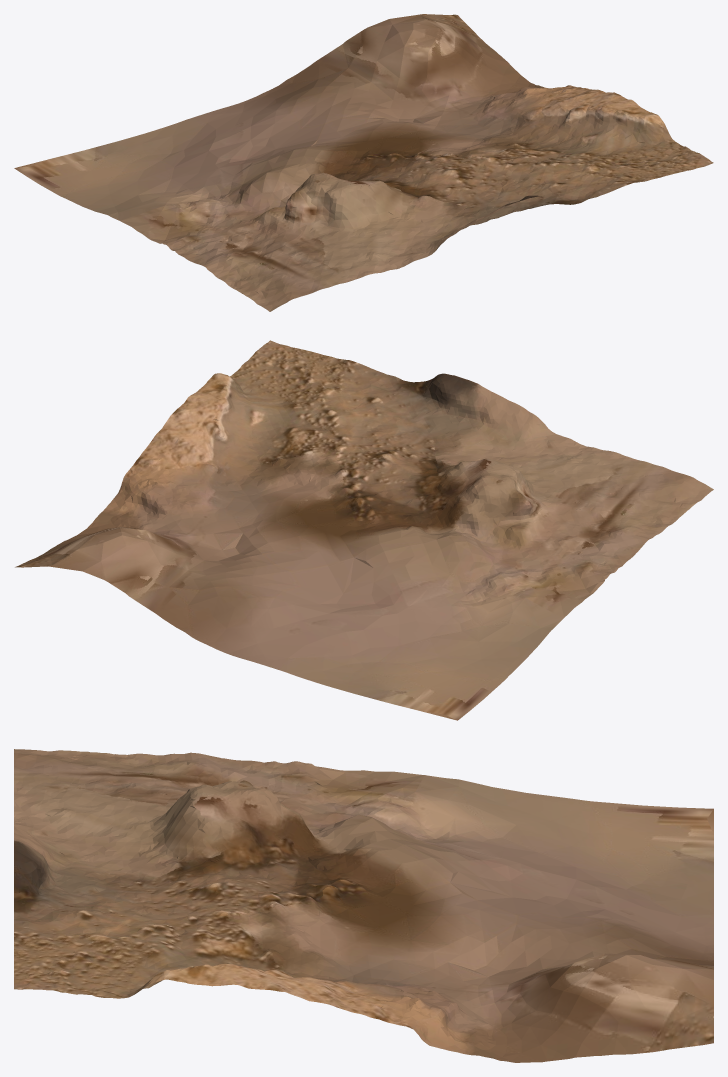
3 renders of one model, top to bottom at view 1: azimuth 30°, elevation 25°; view 2: azimuth 150°, elevation 25°; view 3: azimuth 270°, elevation 25°, orthographic. The views are drawn at different scales.
Bounding box in the file's own units: 1.04 × 0.2122 × 1.04.
Materials: 3 (3 with a texture image).
